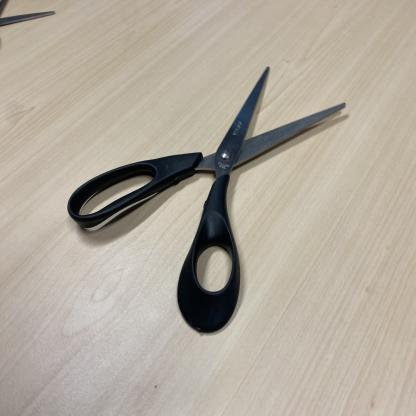scissors: (67, 66, 346, 337), (0, 0, 54, 29)
